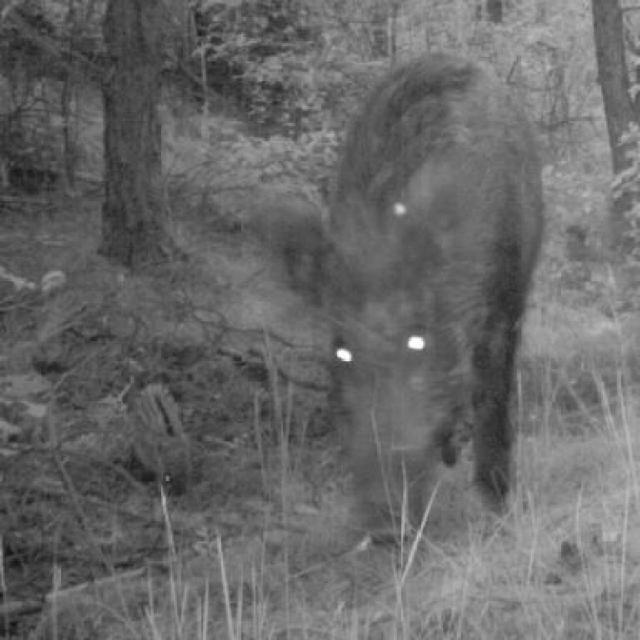pig: (266, 32, 563, 536)
